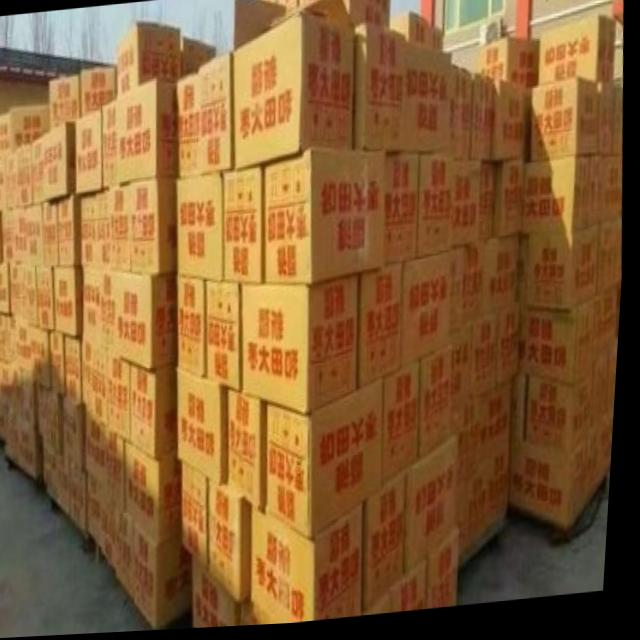box: (234, 0, 356, 173), (271, 382, 390, 544), (243, 278, 365, 417), (266, 153, 388, 287), (258, 505, 371, 628), (514, 435, 601, 535), (411, 443, 464, 582), (354, 25, 408, 156), (138, 522, 202, 631), (523, 301, 601, 390), (462, 443, 516, 564), (118, 78, 177, 186), (525, 162, 606, 240), (455, 383, 517, 484), (130, 442, 189, 548), (371, 473, 414, 618), (531, 230, 604, 314), (182, 369, 233, 489), (120, 274, 182, 372), (531, 373, 600, 456), (406, 255, 454, 374), (532, 84, 599, 169), (540, 20, 618, 93), (213, 481, 258, 606), (363, 268, 407, 393), (115, 21, 183, 101), (177, 176, 226, 285), (233, 390, 273, 515), (226, 170, 268, 287), (407, 49, 453, 155), (134, 365, 183, 461), (389, 364, 425, 493), (132, 178, 179, 276), (200, 52, 236, 176), (208, 282, 246, 393), (387, 156, 421, 272), (425, 350, 457, 468), (199, 559, 249, 630), (421, 156, 453, 264), (479, 39, 541, 93), (452, 245, 487, 338), (182, 276, 212, 382), (492, 85, 531, 166), (188, 465, 216, 575), (487, 238, 523, 322), (433, 531, 468, 614), (496, 163, 531, 242), (452, 167, 483, 253), (45, 121, 78, 201), (177, 74, 200, 181), (77, 107, 104, 196), (47, 437, 76, 518), (475, 316, 501, 402), (55, 267, 86, 339), (451, 72, 474, 168), (396, 561, 435, 617), (111, 353, 135, 442), (39, 381, 68, 454), (111, 185, 134, 276), (89, 408, 113, 493), (11, 103, 51, 153), (598, 350, 622, 433), (501, 308, 525, 389), (471, 83, 493, 168), (111, 427, 133, 512), (50, 77, 82, 133), (600, 290, 622, 371), (454, 329, 476, 410), (67, 397, 91, 470), (599, 415, 619, 499), (102, 101, 121, 189), (61, 196, 84, 268), (82, 69, 116, 117), (122, 507, 140, 597), (391, 17, 433, 55), (340, 0, 391, 31), (85, 268, 104, 349), (103, 270, 121, 354), (183, 35, 218, 78), (597, 88, 617, 161), (95, 346, 113, 427), (68, 338, 89, 406), (106, 493, 124, 571), (602, 227, 621, 299), (91, 471, 108, 549), (22, 424, 46, 479), (481, 168, 497, 246), (74, 460, 91, 533), (83, 192, 99, 269), (44, 198, 61, 269), (98, 191, 112, 272), (516, 378, 532, 448), (40, 268, 57, 332), (30, 204, 47, 267), (53, 332, 69, 397), (19, 141, 34, 208), (35, 330, 52, 388), (33, 135, 45, 207), (86, 340, 97, 414), (520, 239, 531, 312), (16, 207, 30, 264), (0, 262, 14, 316), (29, 267, 41, 326), (3, 211, 15, 263), (258, 0, 298, 14), (0, 115, 11, 156), (432, 27, 444, 58)
